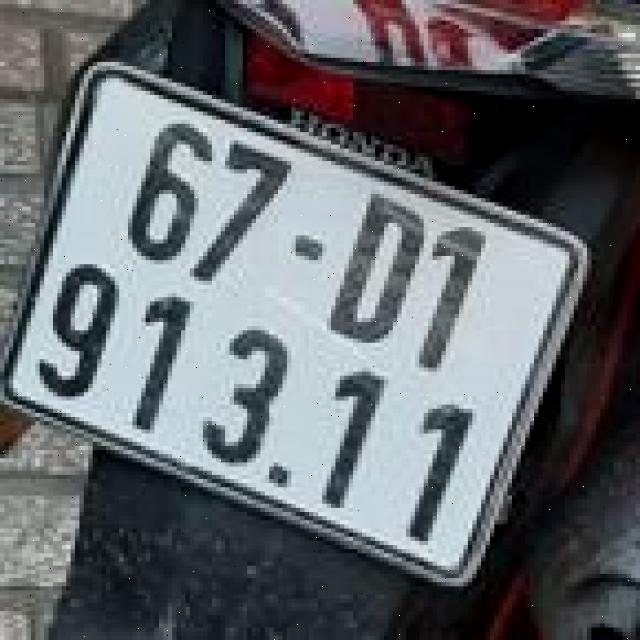1: (369, 386, 497, 564), (394, 210, 513, 386), (298, 359, 413, 524), (114, 284, 211, 443)
3: (179, 309, 311, 479)
6: (106, 104, 233, 275)
7: (175, 129, 315, 298)
9: (20, 246, 150, 415)
D: (313, 185, 446, 363)
